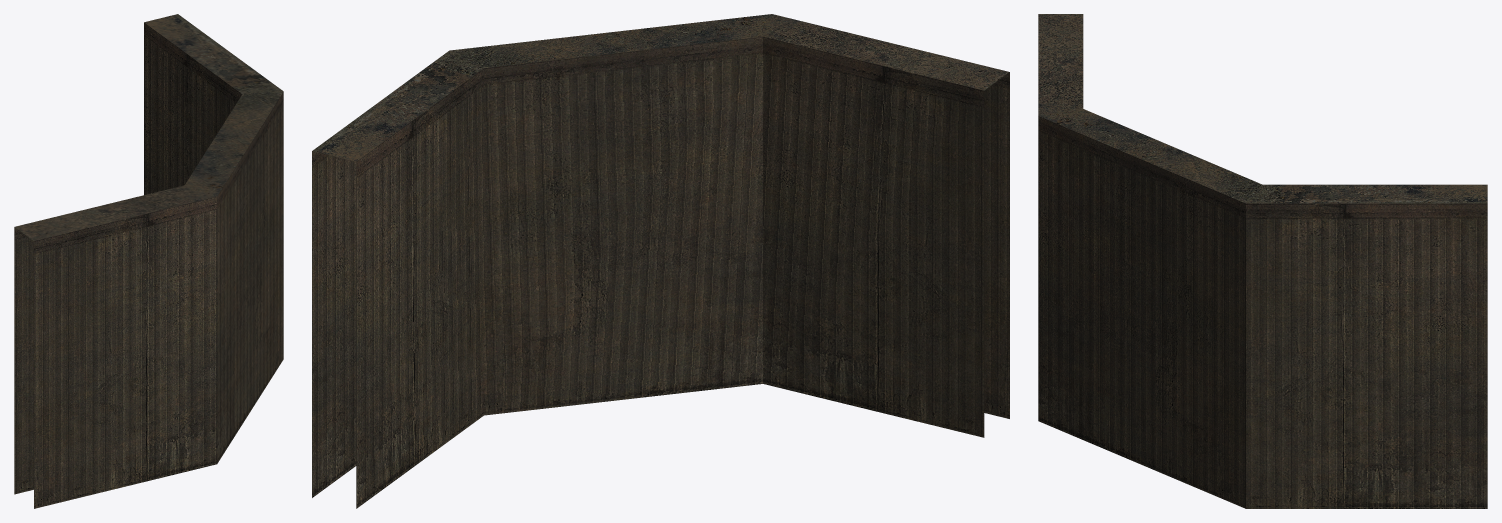
The model's file is wall_rx_1_m2a_1.glb.
3 views of the same model, side by side, from view 1: azimuth 30°, elevation 25°; view 2: azimuth 150°, elevation 25°; view 3: azimuth 270°, elevation 25° (orthographic). The views are drawn at different scales.
Visible parts, largest first — view 1: wall_rx_1_m2a_1; view 2: wall_rx_1_m2a_1; view 3: wall_rx_1_m2a_1.
Part boxes in pixels (<box>): wall_rx_1_m2a_1: <box>14,14,283,508</box>; wall_rx_1_m2a_1: <box>312,14,1009,508</box>; wall_rx_1_m2a_1: <box>1038,14,1487,508</box>.
Bounding box in the file's own units: 4 × 3 × 4.
2 materials, 2 textured.
